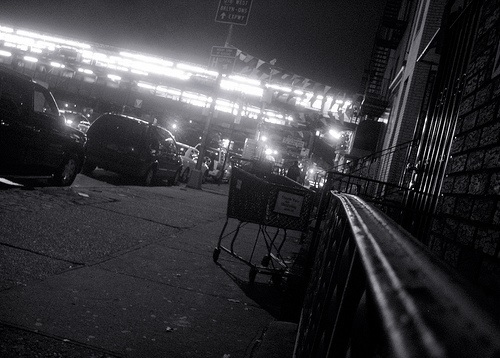car: (76, 111, 188, 191)
